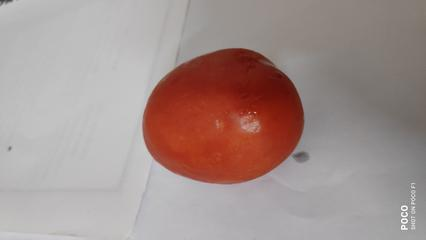tomato: (139, 44, 301, 183)
